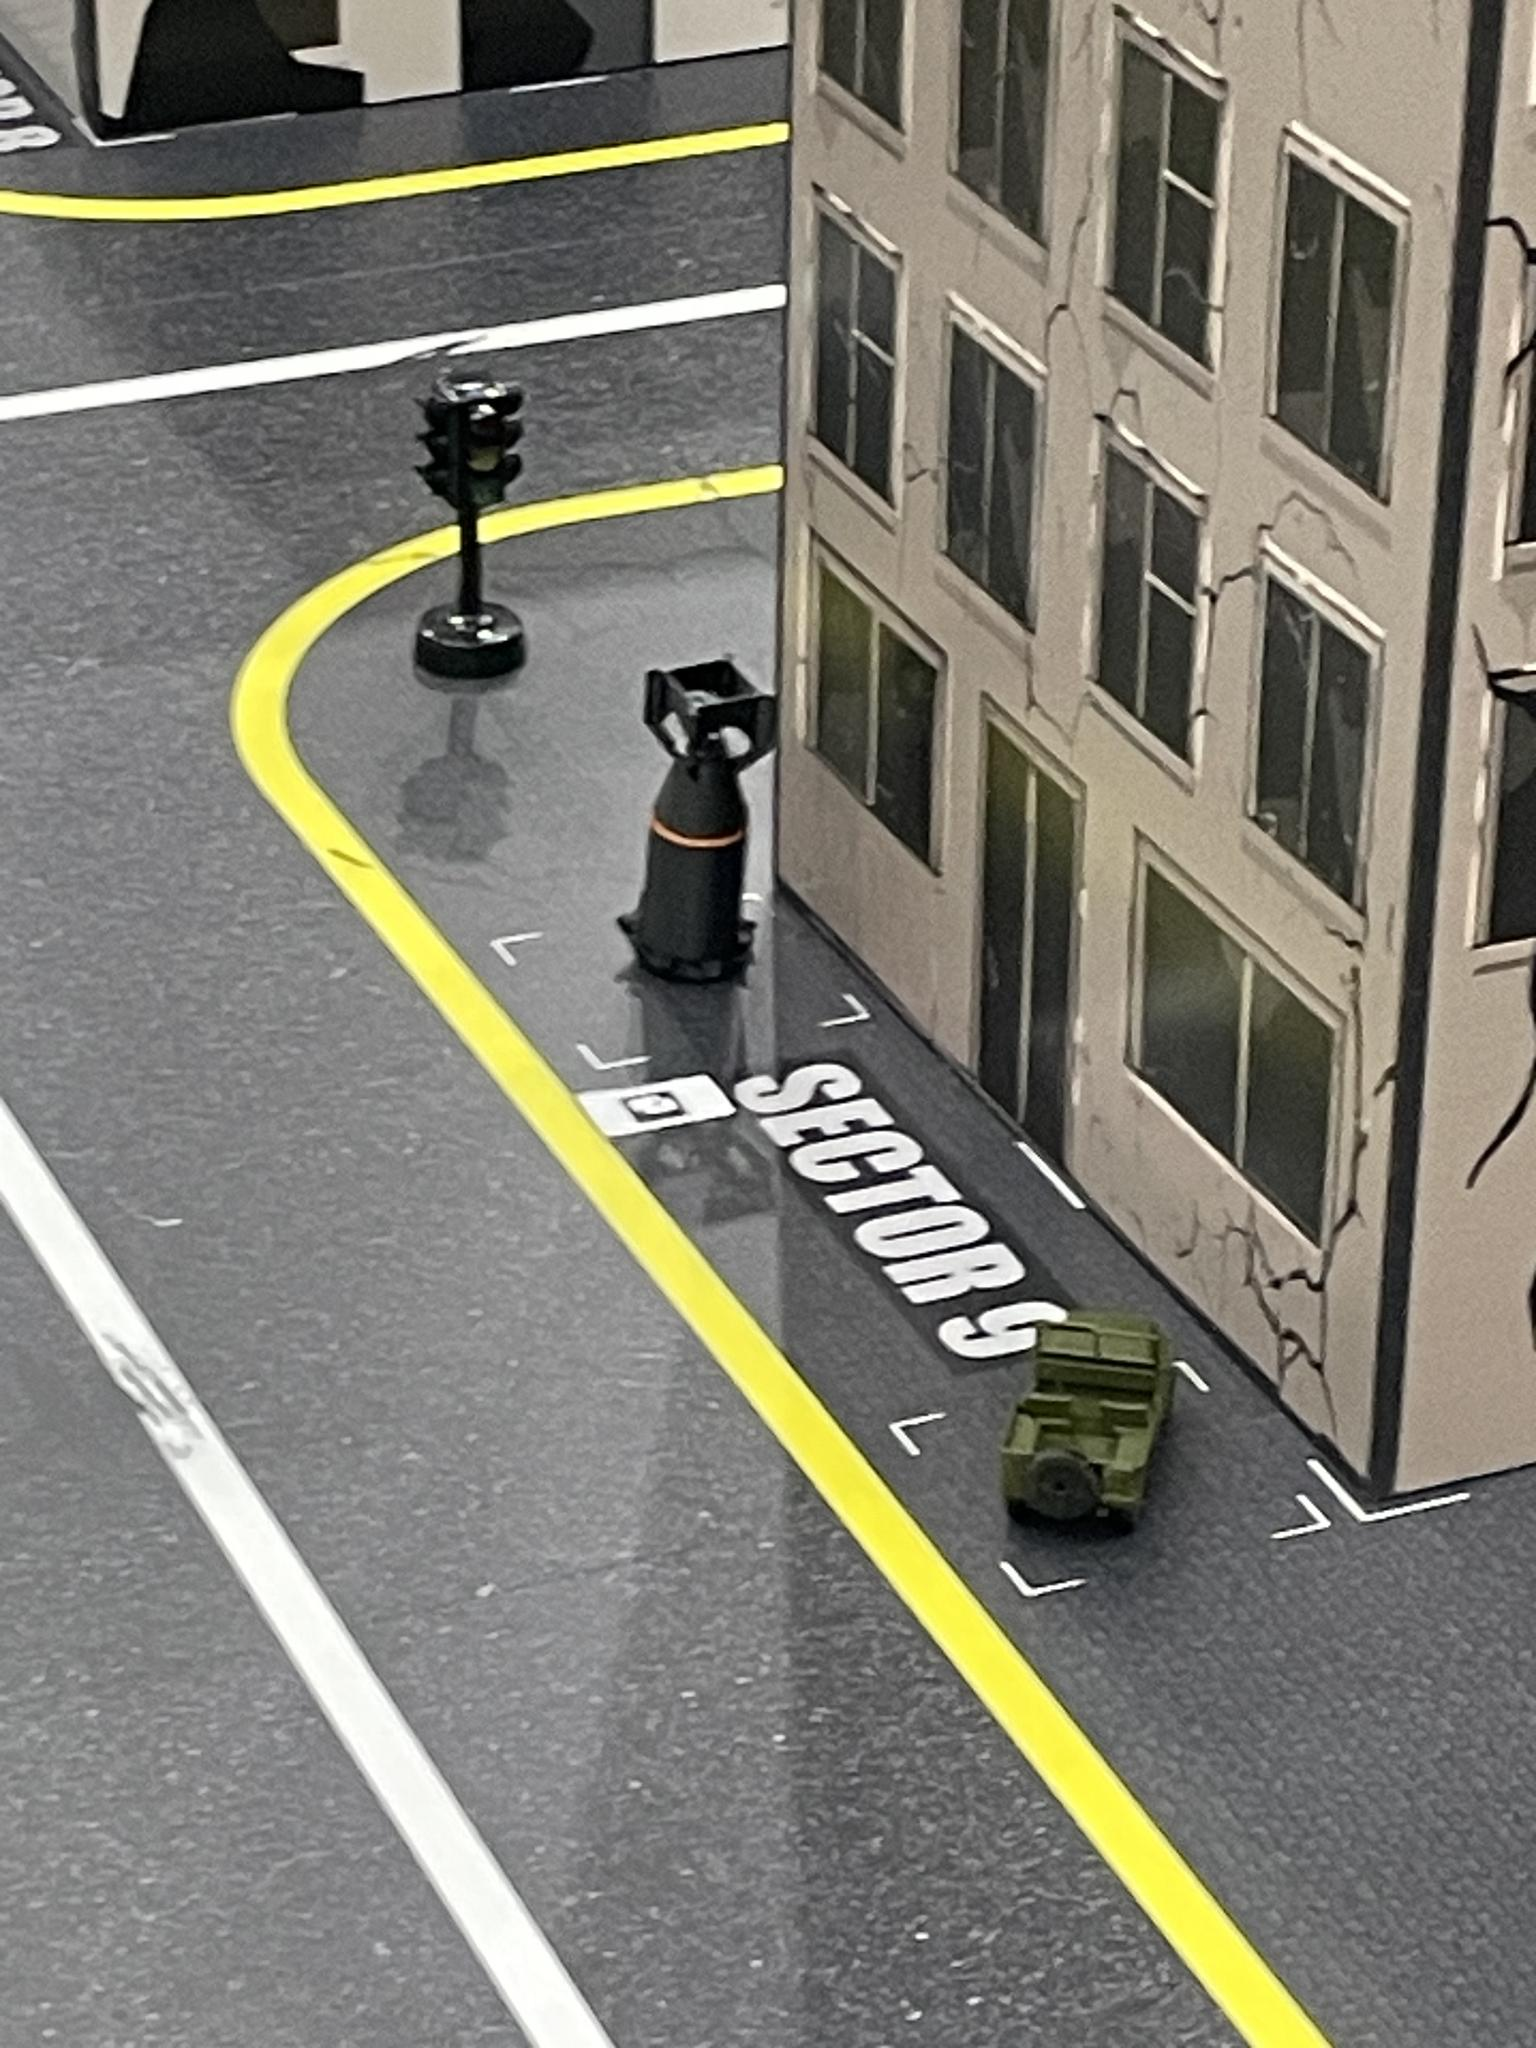Car: (1000, 1276, 1178, 1545)
Missile: (629, 648, 783, 982)
